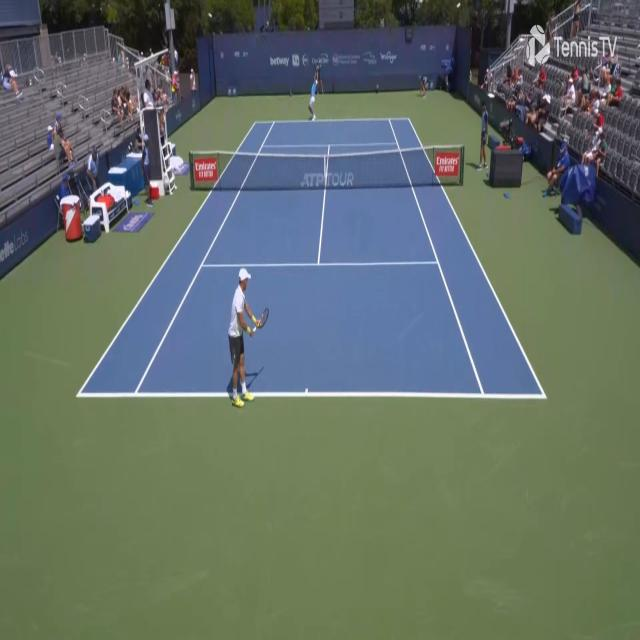tennis-player: (224, 264, 271, 412), (307, 64, 323, 121)
